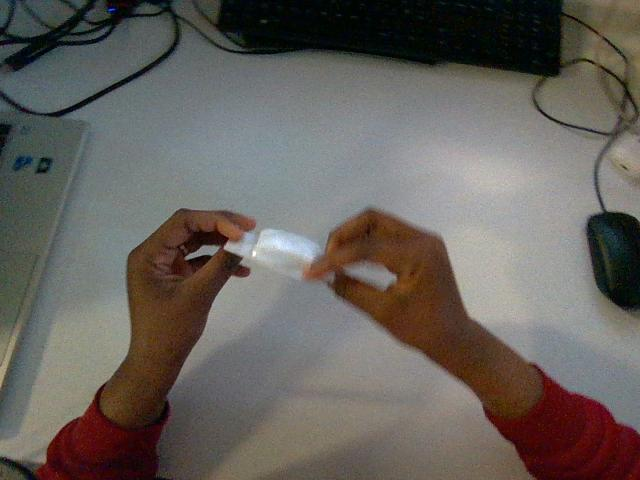gauze: (224, 229, 322, 279)
